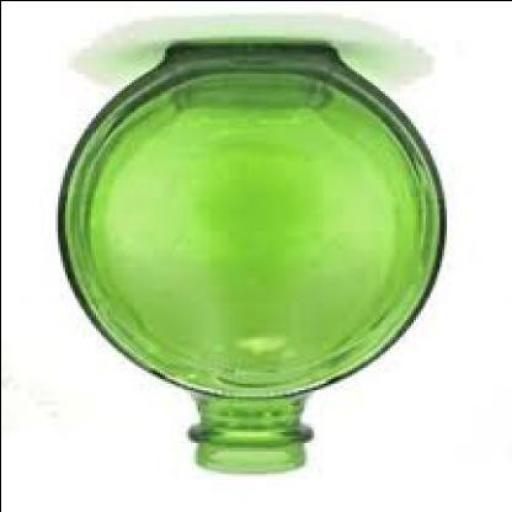glass: (56, 42, 446, 475)
